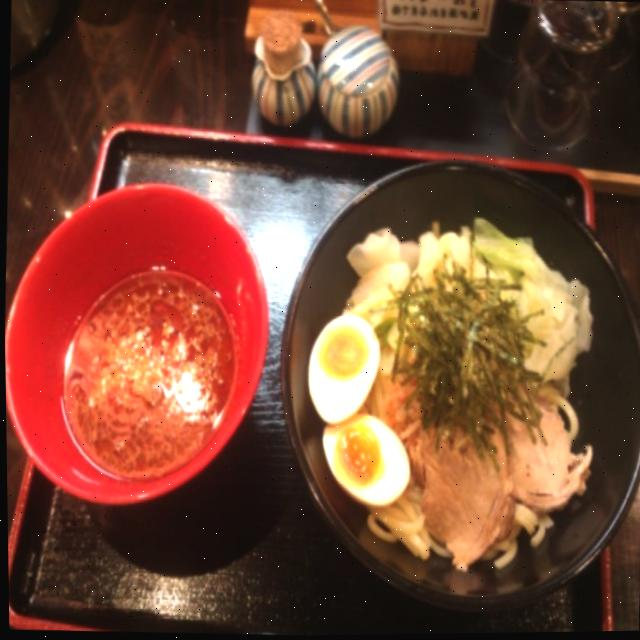面条主食: (2, 142, 640, 616)
